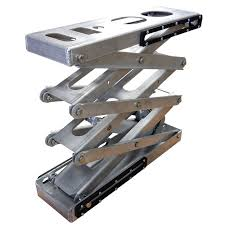Scissor Lift: (23, 5, 205, 224)
